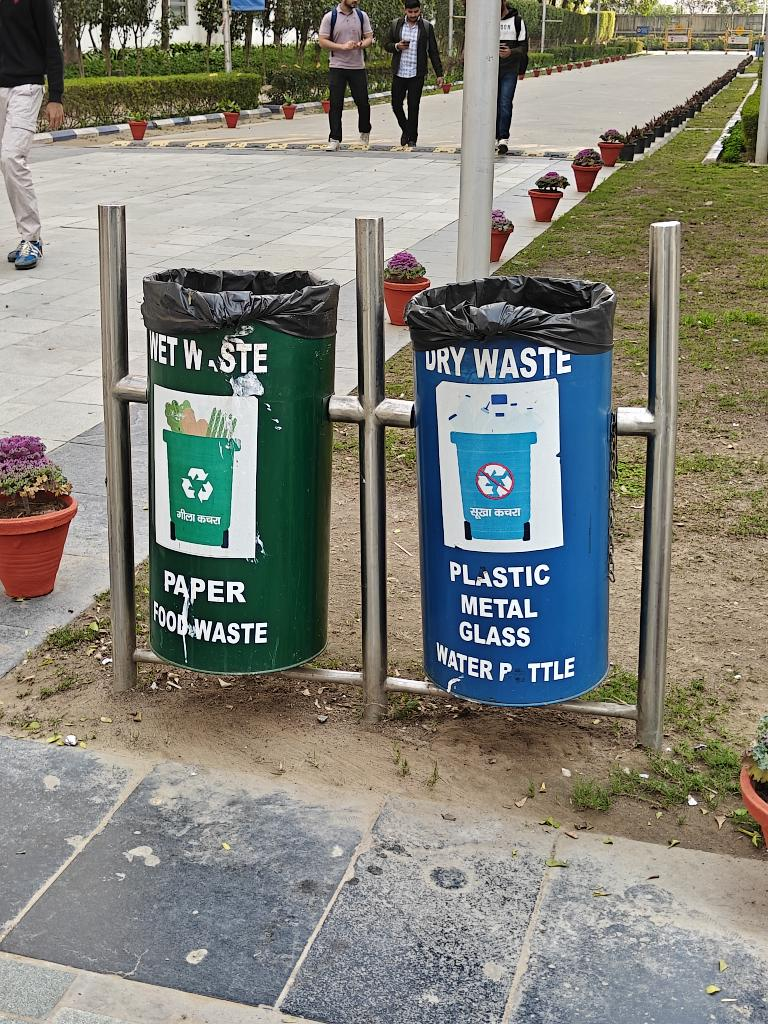dustbin: (89, 194, 688, 788), (90, 197, 394, 741), (390, 202, 665, 738)
